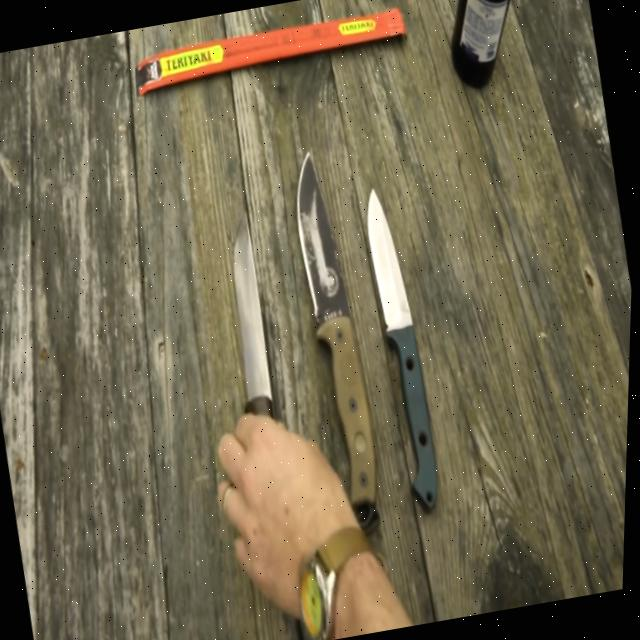knife: (278, 142, 401, 542), (351, 180, 454, 517), (209, 207, 285, 426)
